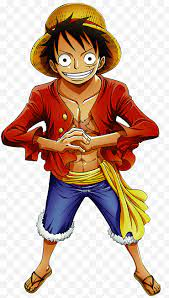luffy: (27, 2, 125, 92)
